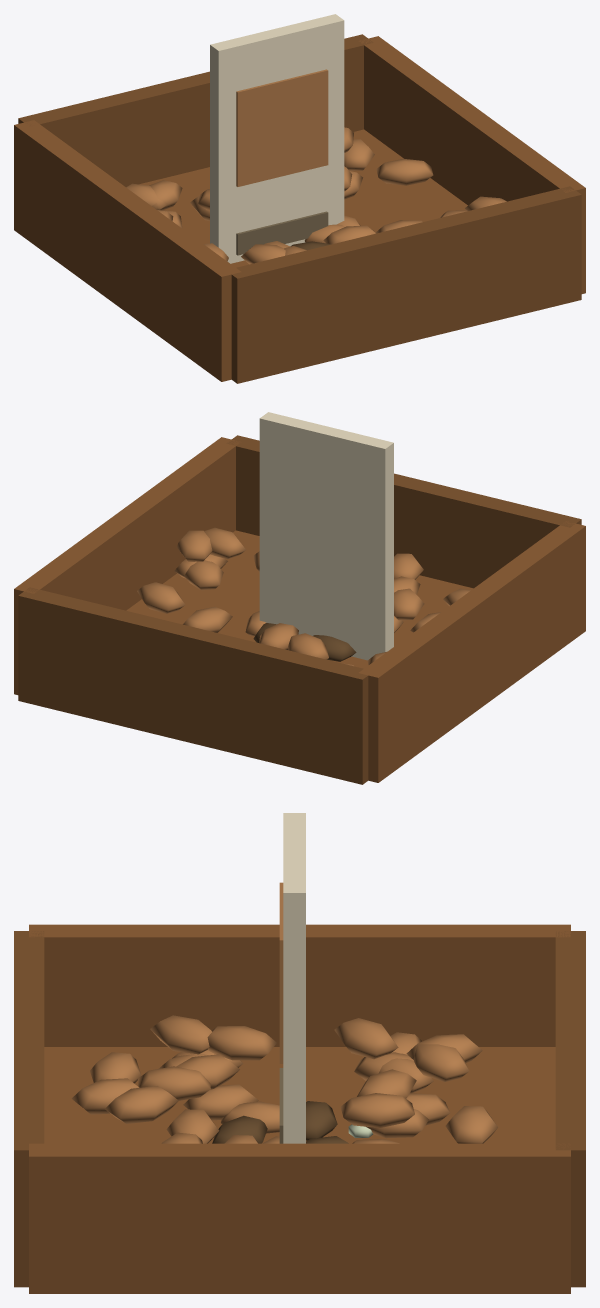
Rendered from Nut_Almond.fbx.
3 views of the same model, one above another, from view 1: azimuth 30°, elevation 25°; view 2: azimuth 150°, elevation 25°; view 3: azimuth 270°, elevation 25° (orthographic). The views are drawn at different scales.
Parts seen in each view (by area): view 1: Nut_Almond__Stack, Nut_Almond__Seed, Nut_Almond; view 2: Nut_Almond__Stack, Nut_Almond__Seed, Nut_Almond__Rotten; view 3: Nut_Almond__Stack, Nut_Almond__Seed, Nut_Almond__Rotten, Nut_Almond.
Boxes of the visible parts, left/top/right/bottom form: Nut_Almond__Stack: left=14, top=34, right=585, bottom=383; Nut_Almond__Seed: left=210, top=14, right=344, bottom=263; Nut_Almond: left=264, top=215, right=360, bottom=248; Nut_Almond__Stack: left=14, top=435, right=585, bottom=784; Nut_Almond__Seed: left=259, top=412, right=393, bottom=660; Nut_Almond__Rotten: left=253, top=623, right=356, bottom=661; Nut_Almond__Stack: left=14, top=924, right=585, bottom=1293; Nut_Almond__Seed: left=279, top=813, right=305, bottom=1143; Nut_Almond__Rotten: left=212, top=1101, right=373, bottom=1143; Nut_Almond: left=221, top=1101, right=279, bottom=1143.
Bounding box in the file's own units: 0.145 × 0.09 × 0.1511.
